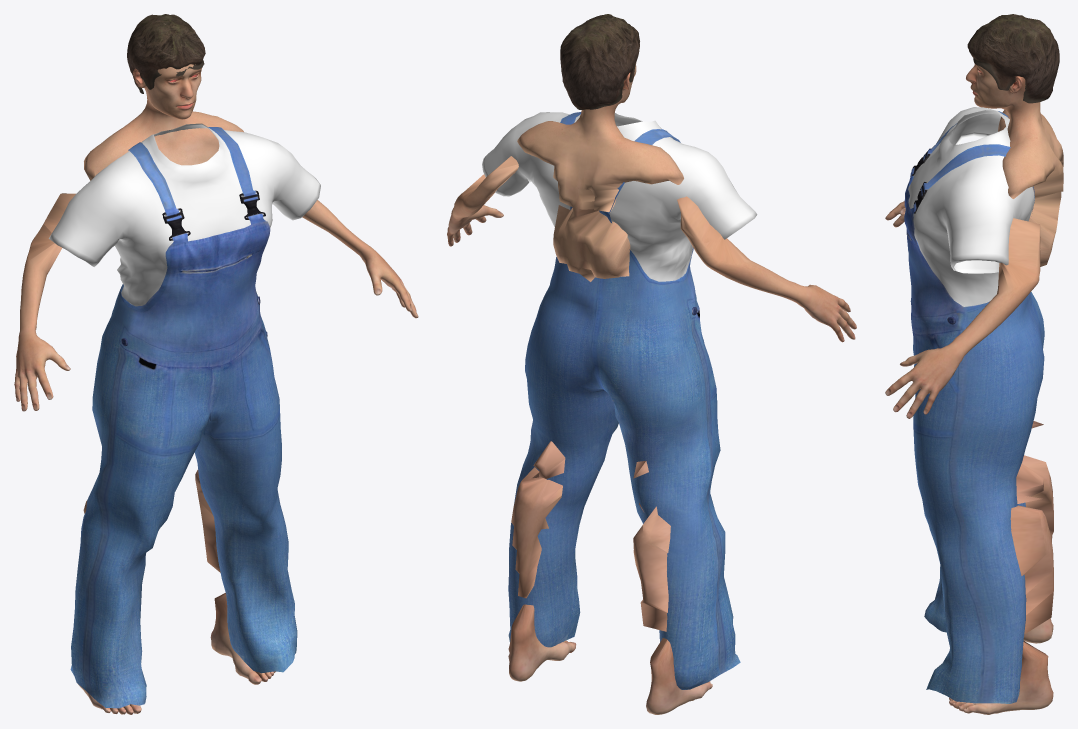
File: sergeant.glb
3 renders of one model, left to right at view 1: azimuth 30°, elevation 25°; view 2: azimuth 150°, elevation 25°; view 3: azimuth 270°, elevation 25°, orthographic.
Parts seen in each view (by area): view 1: clothes_male_worksuit01, Human, hair_short02; view 2: clothes_male_worksuit01, Human, hair_short02; view 3: clothes_male_worksuit01, Human, hair_short02.
Boxes of the visible parts, left/top/right/bottom form: clothes_male_worksuit01: left=49, top=123, right=320, bottom=708; Human: left=14, top=64, right=418, bottom=714; hair_short02: left=127, top=14, right=205, bottom=93; clothes_male_worksuit01: left=482, top=112, right=757, bottom=689; Human: left=447, top=62, right=856, bottom=714; hair_short02: left=560, top=14, right=639, bottom=109; clothes_male_worksuit01: left=904, top=107, right=1044, bottom=703; Human: left=885, top=64, right=1063, bottom=714; hair_short02: left=967, top=14, right=1059, bottom=103.
Size of the model in its own units: 1.12 by 1.78 by 0.4391.
Materials: 4 (4 with a texture image).
